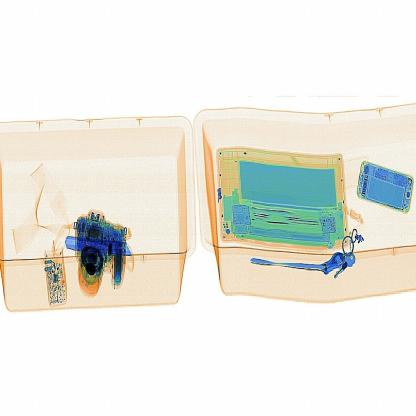pliers: (62, 230, 134, 268)
